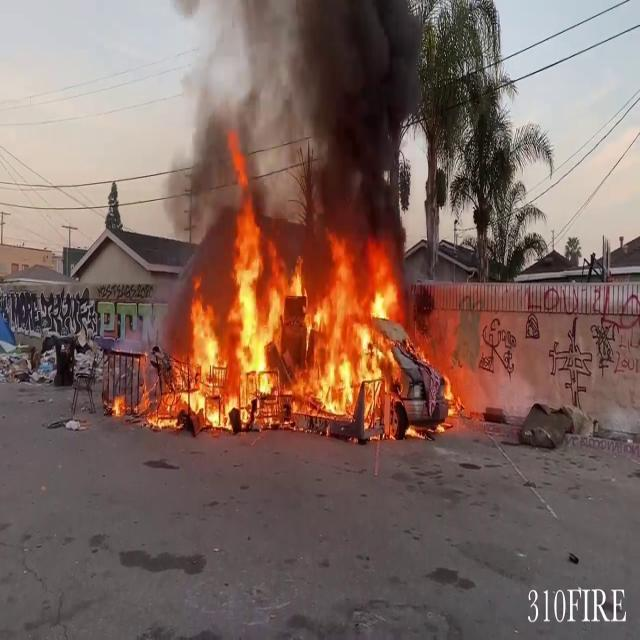Fire: (124, 202, 444, 434)
Smoke: (171, 0, 420, 236)
